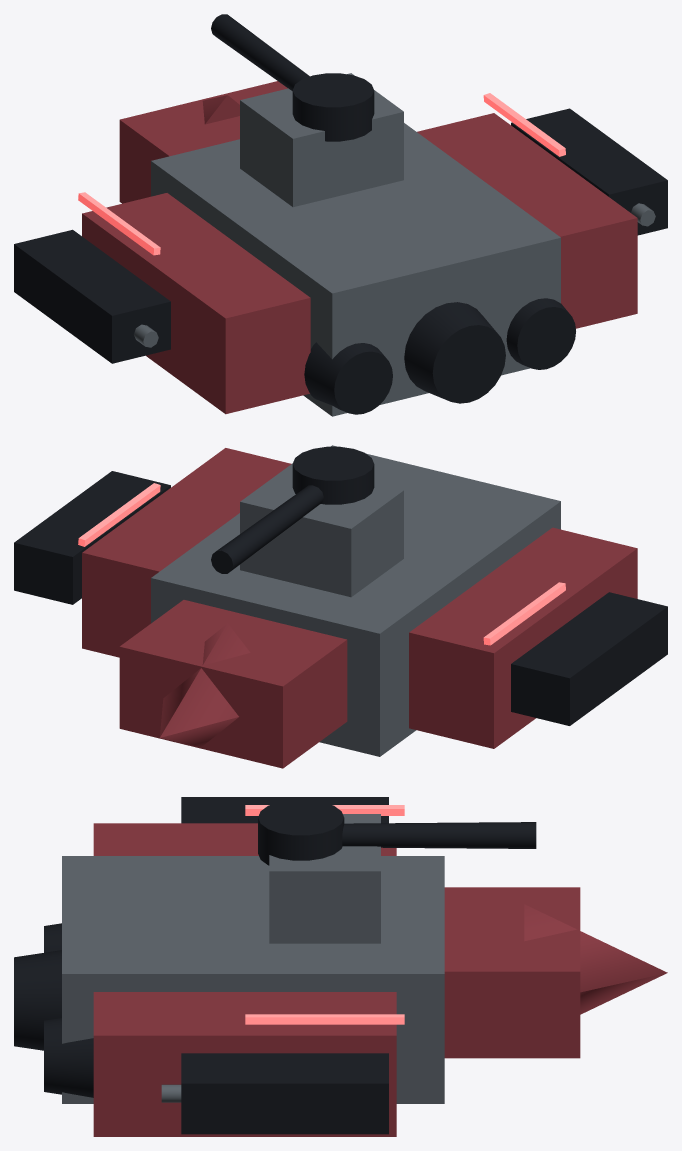
The model's file is bastion-7.glb.
The picture shows the model from 3 angles, top to bottom: view 1: azimuth 30°, elevation 25°; view 2: azimuth 150°, elevation 25°; view 3: azimuth 270°, elevation 25°; orthographic projection. The views are drawn at different scales.
Visible parts, largest first — view 1: layered armored center hull, side armor slab -1, side armor slab 1, missile rack -1, upper command citadel, main gunship nozzle, missile rack 1, forward armor casemate, armored side nozzle -1, top turret base, armored side nozzle 1, top turret cannon (+3 smaller); view 2: layered armored center hull, side armor slab -1, forward armor casemate, side armor slab 1, missile rack -1, upper command citadel, missile rack 1, stub ram prow, top turret base, top turret cannon, bastion red marker 1, bastion red marker -1; view 3: layered armored center hull, side armor slab 1, forward armor casemate, missile rack 1, upper command citadel, side armor slab -1, top turret cannon, stub ram prow, top turret base, main gunship nozzle, armored side nozzle 1, missile rack -1 (+2 smaller).
Boxes of the visible parts, x1,y1,x2,y2 form: layered armored center hull: (151, 123, 560, 416); side armor slab -1: (82, 193, 310, 414); side armor slab 1: (417, 113, 637, 328); missile rack -1: (14, 229, 170, 363); upper command citadel: (240, 73, 403, 207); main gunship nozzle: (404, 302, 505, 403); missile rack 1: (511, 108, 667, 235); forward armor casemate: (119, 81, 287, 203); armored side nozzle -1: (304, 342, 392, 414); top turret base: (292, 73, 374, 141); armored side nozzle 1: (506, 298, 575, 369); top turret cannon: (211, 14, 309, 90); layered armored center hull: (151, 445, 560, 756); side armor slab -1: (409, 527, 637, 748); forward armor casemate: (119, 600, 347, 768); side armor slab 1: (82, 448, 291, 657); missile rack -1: (511, 592, 667, 725); upper command citadel: (240, 463, 403, 597); missile rack 1: (14, 471, 170, 604); stub ram prow: (159, 623, 250, 747); top turret base: (292, 446, 374, 504); top turret cannon: (211, 485, 323, 573); bastion red marker 1: (78, 483, 160, 546); bastion red marker -1: (483, 582, 565, 645); layered armored center hull: (62, 856, 444, 1103); side armor slab 1: (93, 992, 396, 1136); forward armor casemate: (444, 887, 580, 1058); missile rack 1: (181, 1053, 388, 1134); upper command citadel: (269, 814, 380, 943); side armor slab -1: (93, 823, 396, 855); top turret cannon: (342, 822, 536, 848); stub ram prow: (524, 904, 667, 1014); top turret base: (258, 799, 344, 865); main gunship nozzle: (14, 950, 61, 1050); armored side nozzle 1: (44, 1017, 93, 1097); missile rack -1: (181, 797, 388, 823).
Size of the model in its own units: 75.65 by 28.75 by 72.98.
